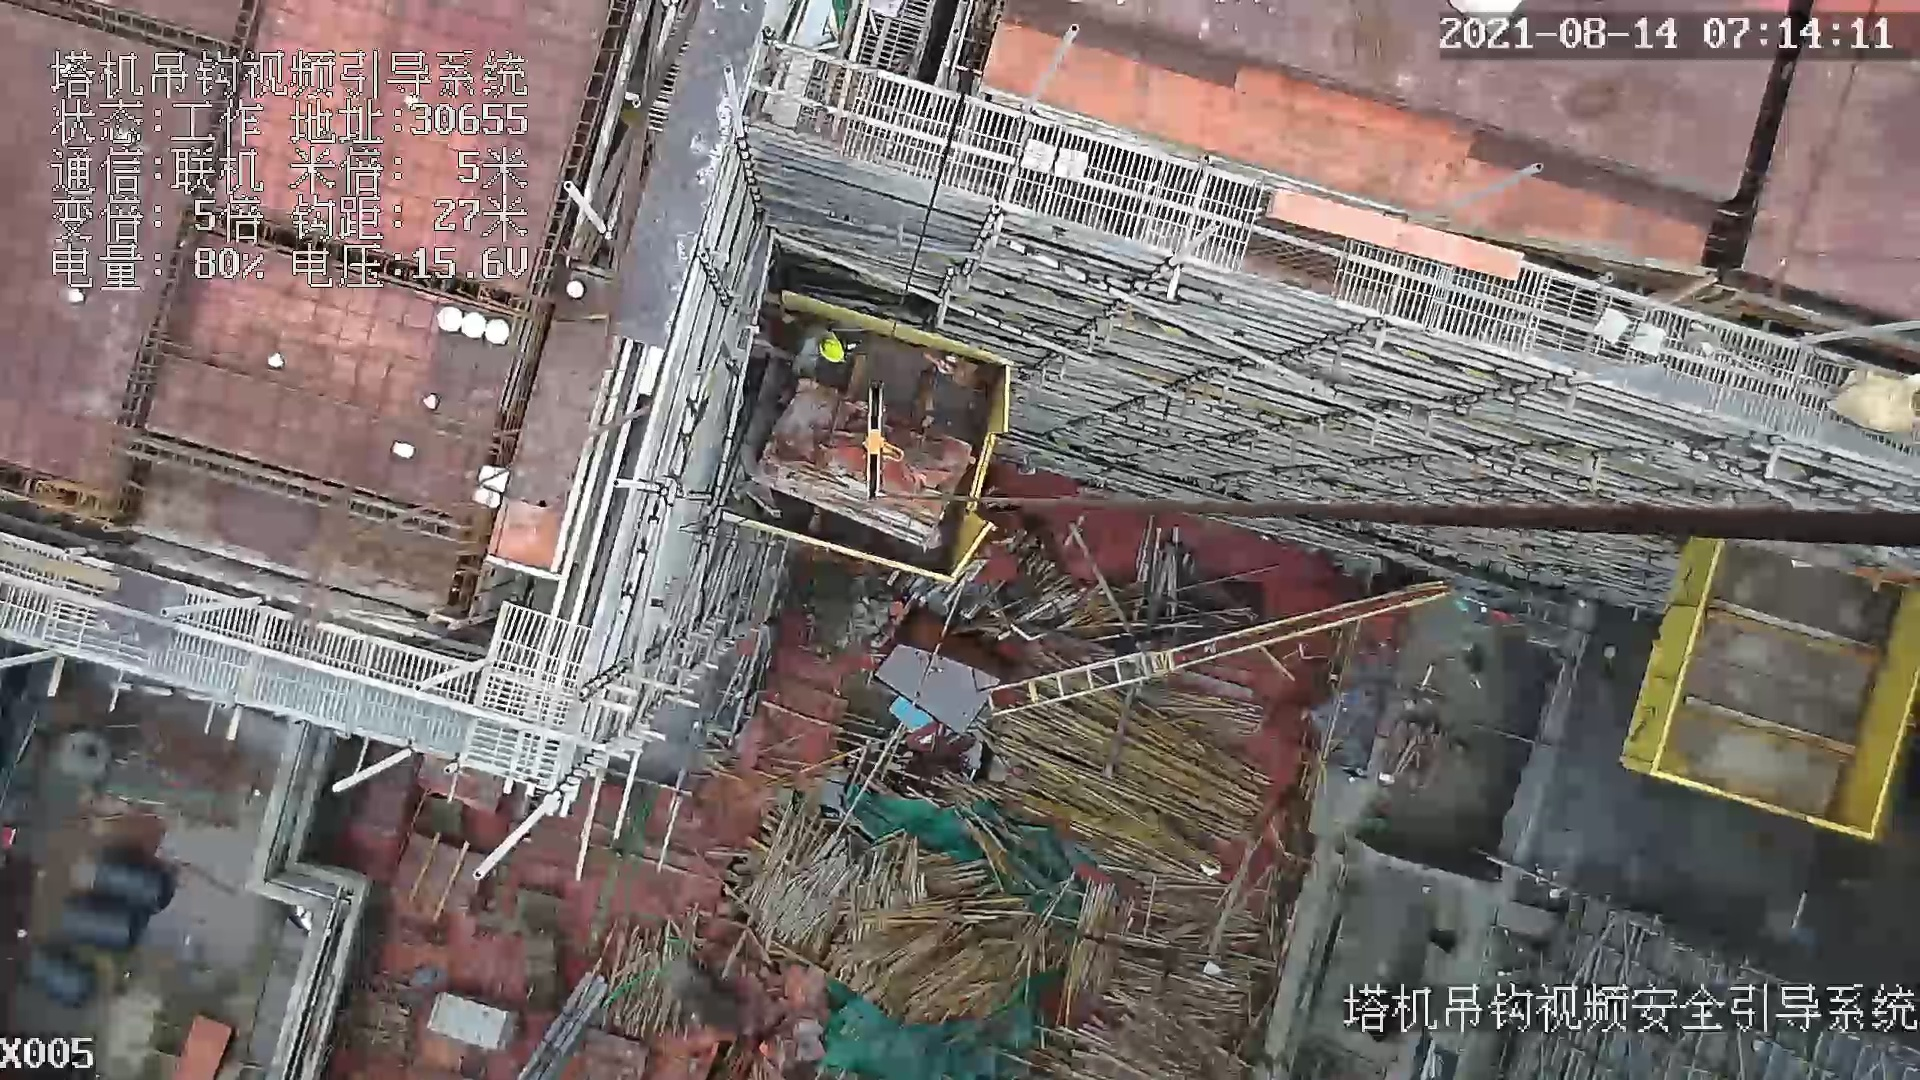helmet: (817, 334, 844, 363)
hook: (859, 381, 906, 504)
person: (767, 301, 854, 377)
